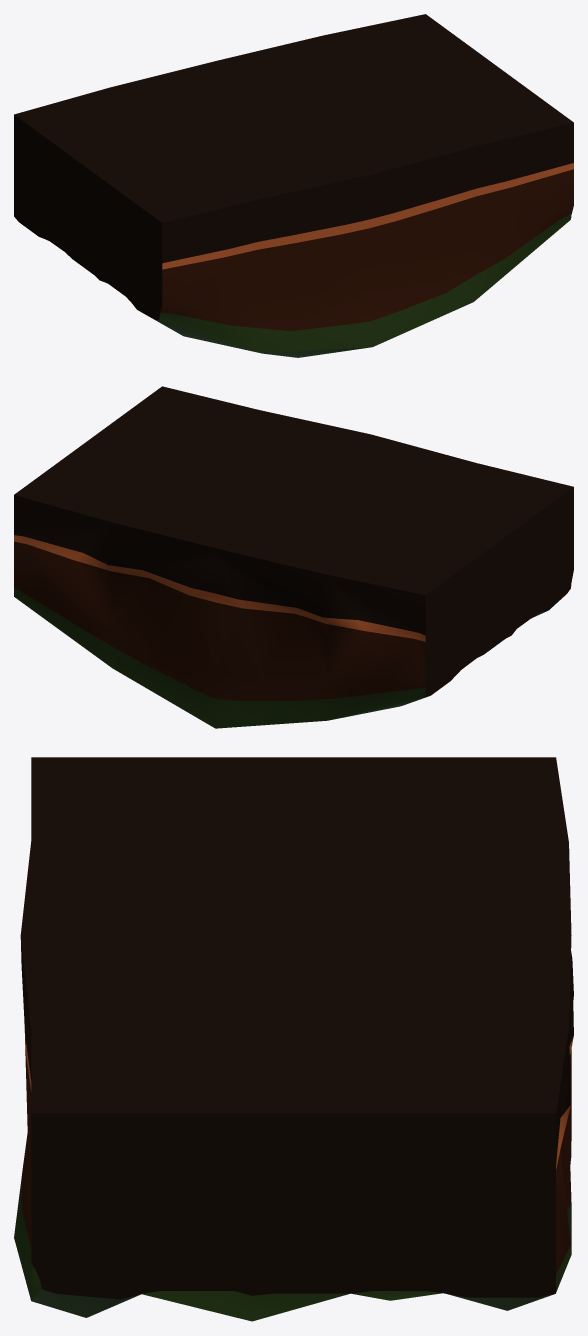
Rendered from floormontain.FBX.
3 views of the same model, one above another, from view 1: azimuth 30°, elevation 25°; view 2: azimuth 150°, elevation 25°; view 3: azimuth 270°, elevation 25° (orthographic). The views are drawn at different scales.
Visible parts, largest first — view 1: Object004; view 2: Object004; view 3: Object004.
Boxes of the visible parts, x1,y1,x2,y2 form: Object004: (14,14,573,357); Object004: (14,386,573,728); Object004: (14,757,573,1321).
Size of the model in its own units: 87.87 by 37.39 by 58.45.
